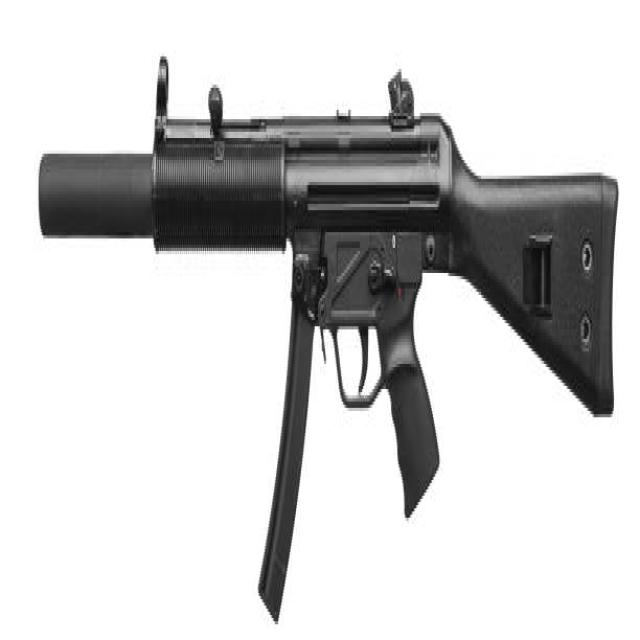rifle: (30, 41, 625, 633)
